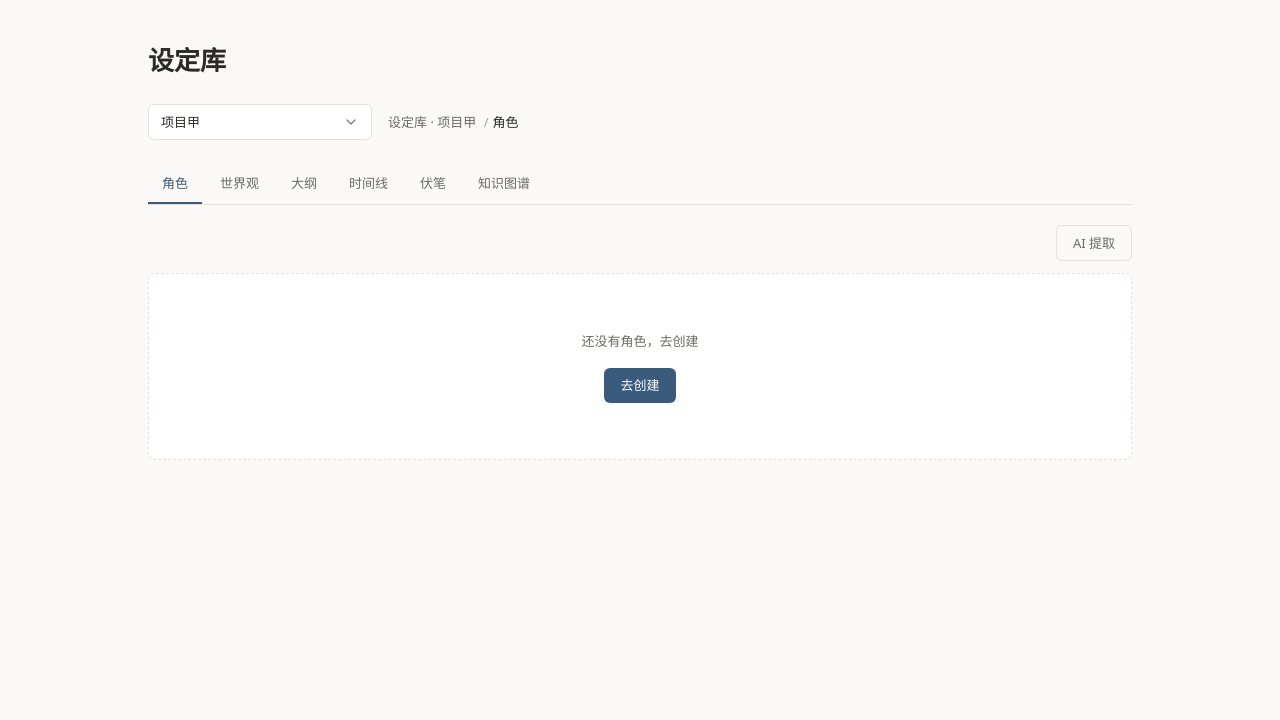
Test case: 设定库页 — F43 P1 角色等级/标签/世界观树/复制（#284） › R1 创建对话框渲染等级下拉 + 标签编辑器；仅填名称不选等级 → 保存 disabled（D1 必填无默认）
Click the button with test id "library-tab-empty-cta".
click(640, 386)  # box left=604, top=368, right=676, bottom=403
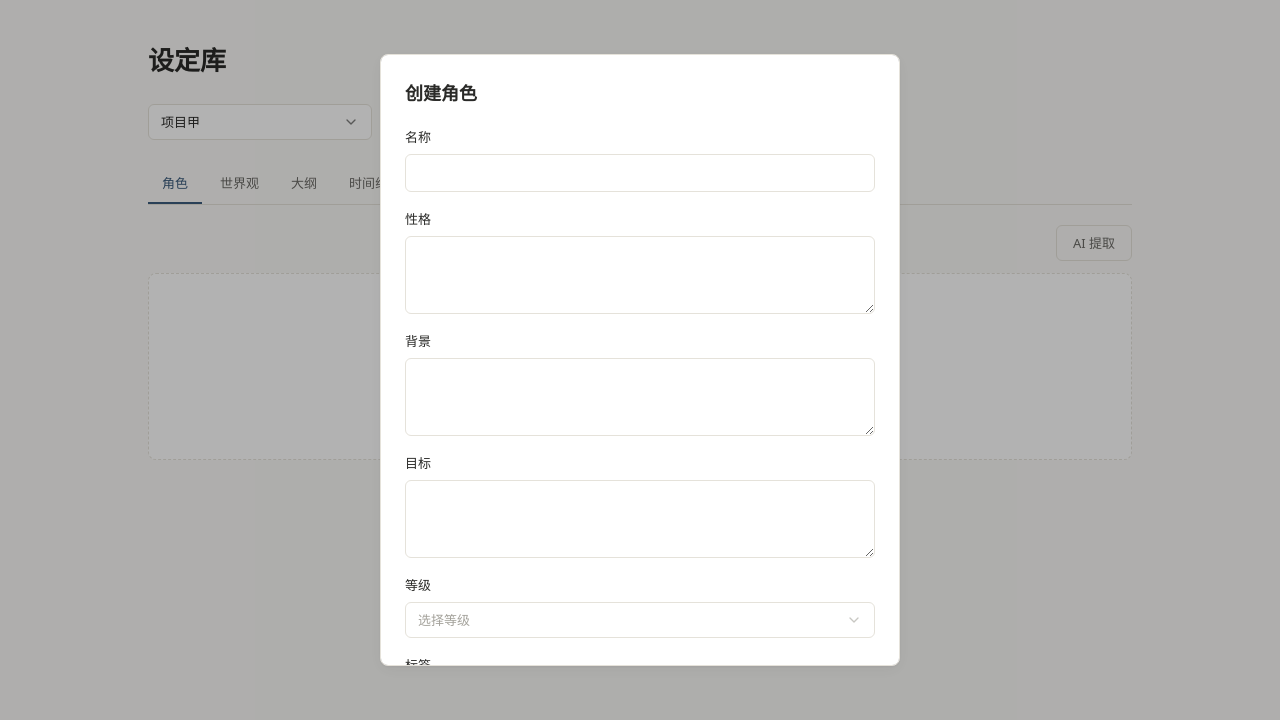
Now the dropdown with test id "library-create-rank" is shown, box left=405, top=602, right=875, bottom=638
Type "叶孤城" into the field labelled "名称".
click(640, 173); type("叶孤城")  # box left=405, top=154, right=875, bottom=192
(page scrolled)
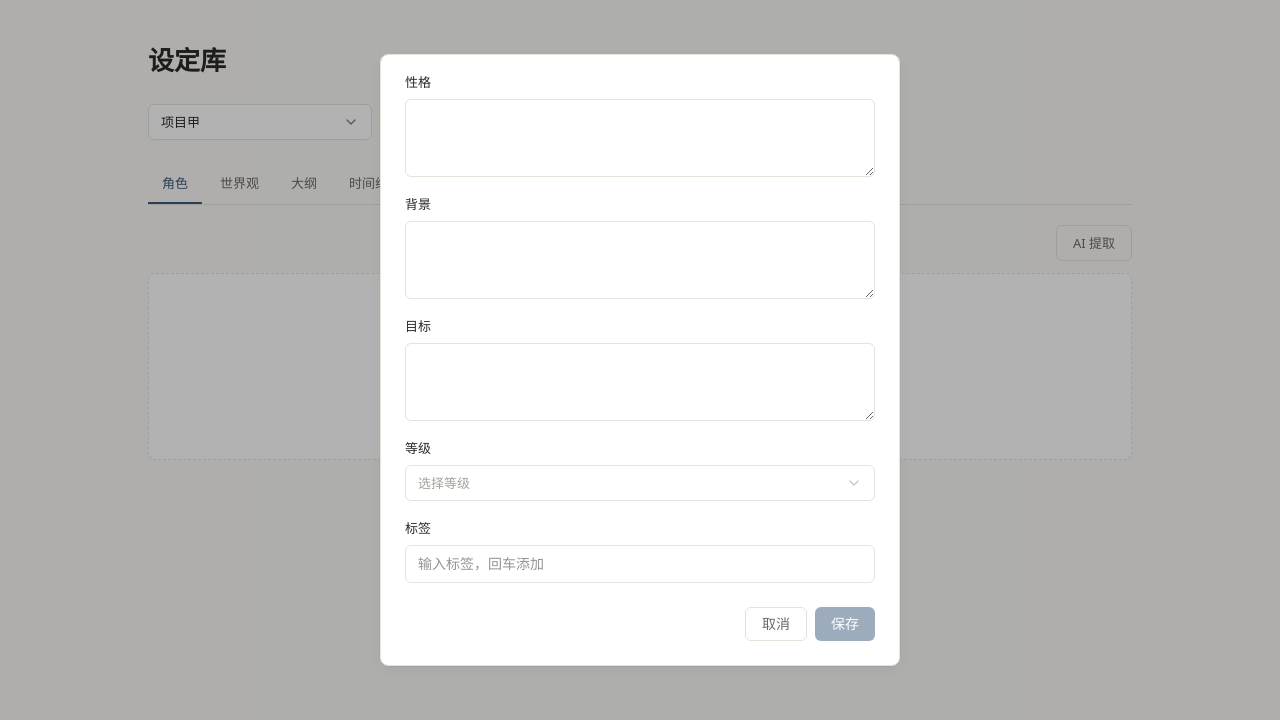
Now the button with test id "library-create-save" is disabled, box left=815, top=607, right=875, bottom=641
